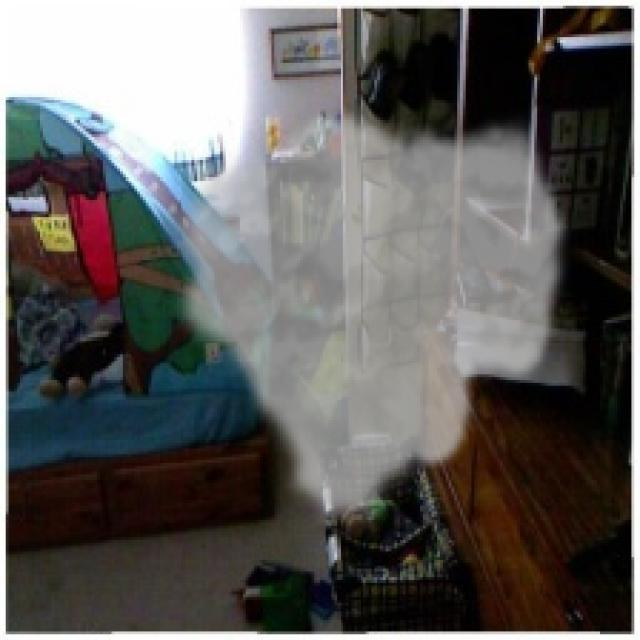Smoke: (166, 106, 574, 528)
